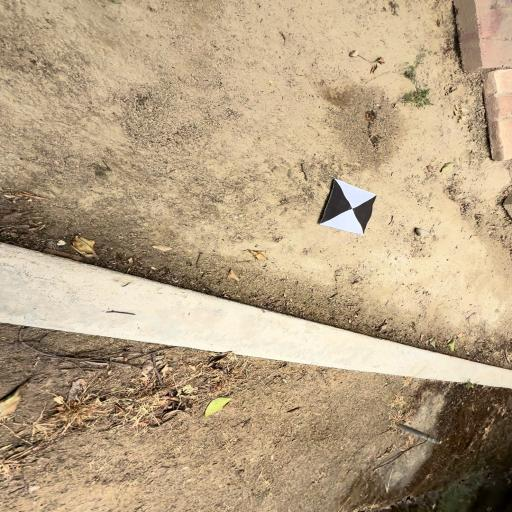target: (319, 180, 378, 234)
